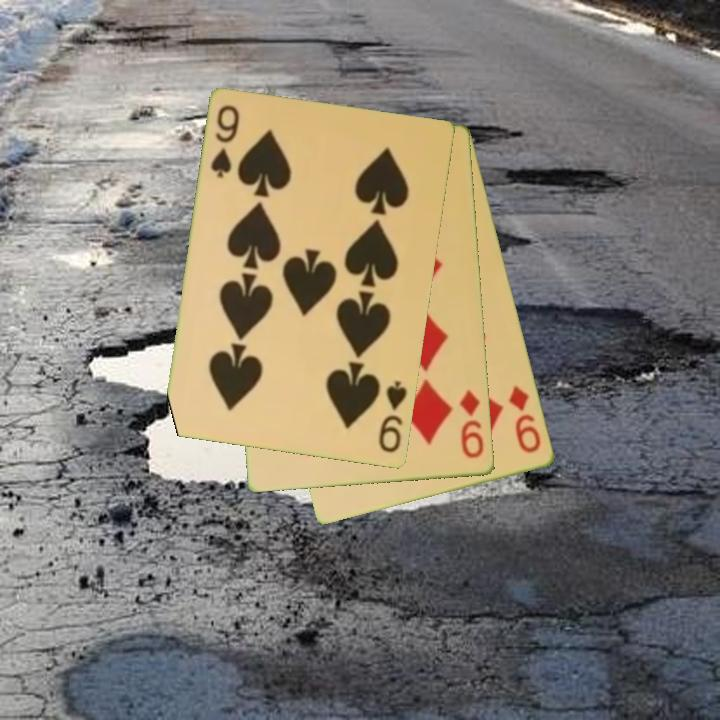9d: (505, 381, 544, 457), (456, 386, 487, 462)
9s: (207, 102, 243, 182), (375, 377, 410, 456)
